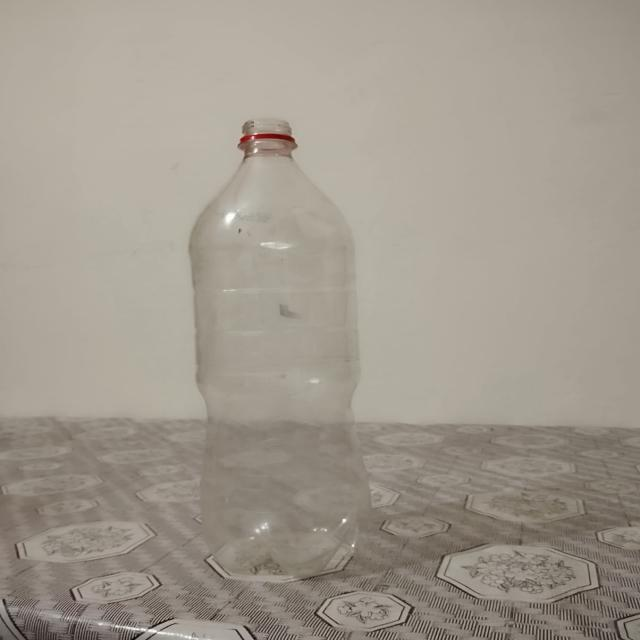bottle: (186, 115, 376, 589)
